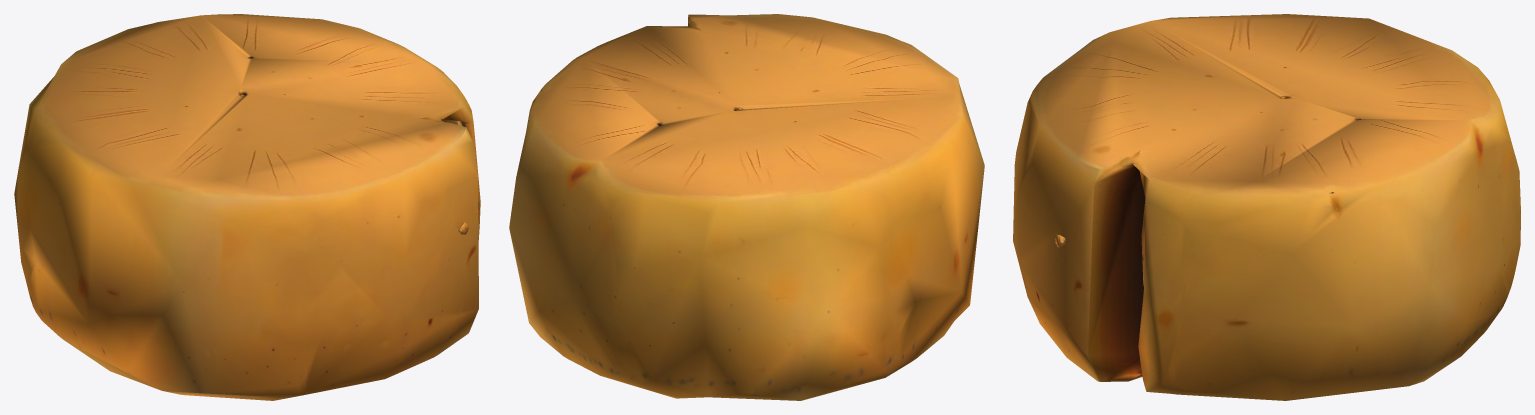
File: cheese.glb
3 renders of one model, left to right at view 1: azimuth 30°, elevation 25°; view 2: azimuth 150°, elevation 25°; view 3: azimuth 270°, elevation 25°, orthographic. The views are drawn at different scales.
Bounding box in the file's own units: 1.81 × 0.9603 × 1.99.
Materials: 1 (1 with a texture image).
